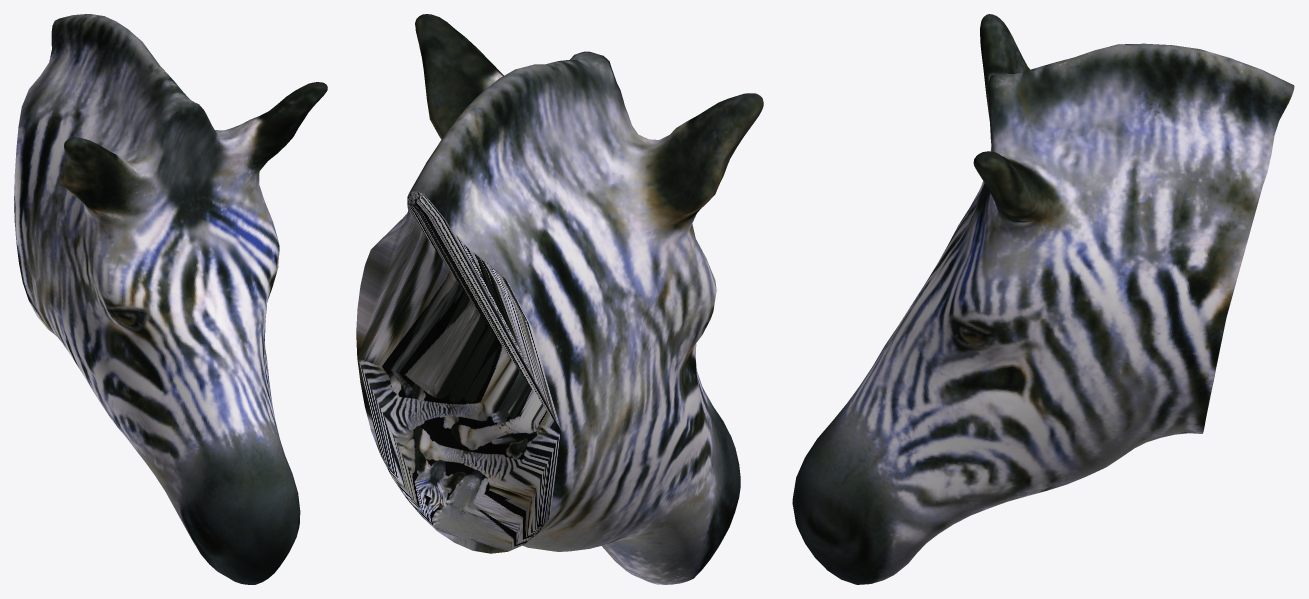
The model's file is HeadZebra.obj.
3 views of the same model, side by side, from view 1: azimuth 30°, elevation 25°; view 2: azimuth 150°, elevation 25°; view 3: azimuth 270°, elevation 25° (orthographic). The views are drawn at different scales.
Parts seen in each view (by area): view 1: Zebra_Quad.001; view 2: Zebra_Quad.001; view 3: Zebra_Quad.001.
Boxes of the visible parts, x1,y1,x2,y2 form: Zebra_Quad.001: (14, 14, 327, 584); Zebra_Quad.001: (356, 14, 763, 584); Zebra_Quad.001: (792, 14, 1294, 584).
Bounding box in the file's own units: 0.4461 × 0.7615 × 0.6456.
1 material, 1 textured.
